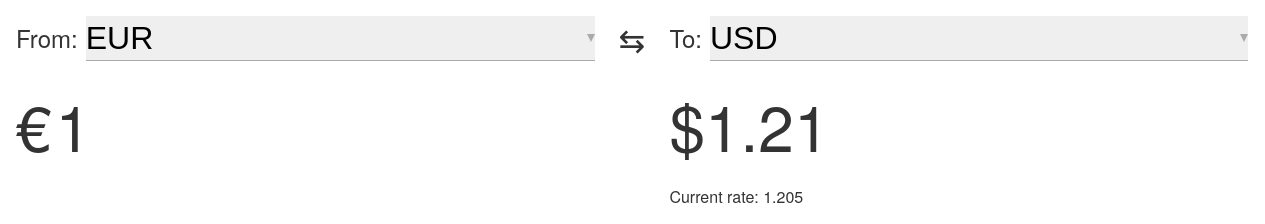
Test: Convertor › allow to enter amount to convert
Expected: the text "1.205" is shown, [763,185,803,208]
Replace the text in the field named "value" with "235" at coordinates (325, 125), box [56,85,595,165]
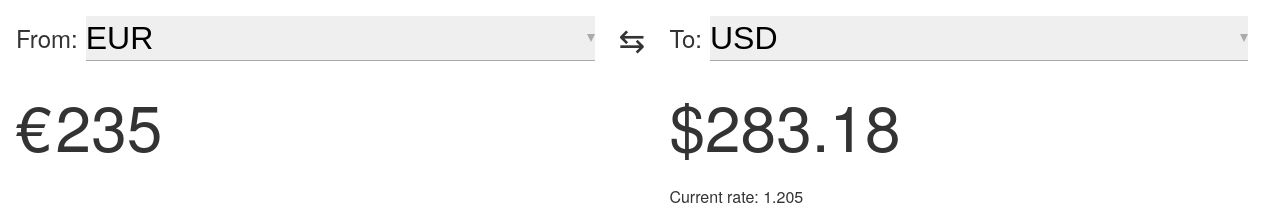
Result: the text "$283.18" is shown at [669,79,901,170]
